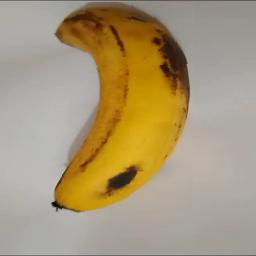Banana Semifresh: (52, 2, 194, 218)
